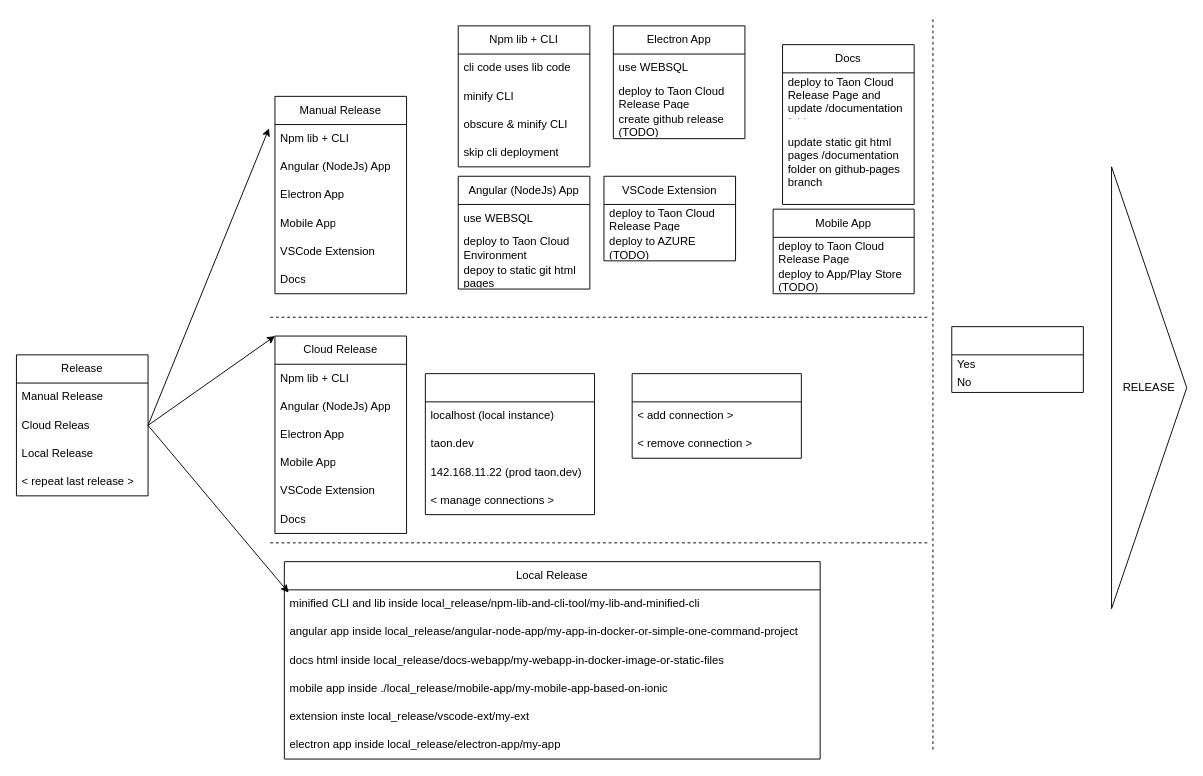
Some shapes in this 1203 by 776 pixel diagram are drawn without their labels. The box of each missing label's shape, as (x1, y1, x2, y2) in pixels:
Manage Connection: (631, 373, 801, 458)
Save new relesae-config.json ?: (951, 326, 1083, 392)
Select Cloud: (424, 373, 595, 515)
